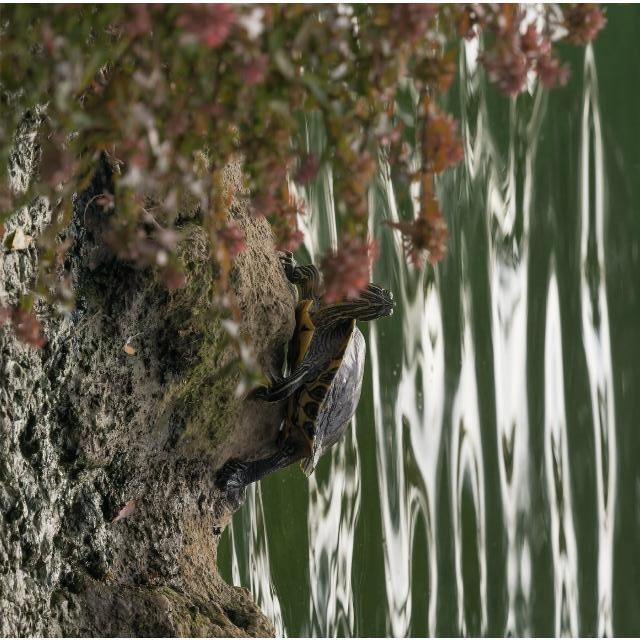turtle: (213, 249, 397, 493)
